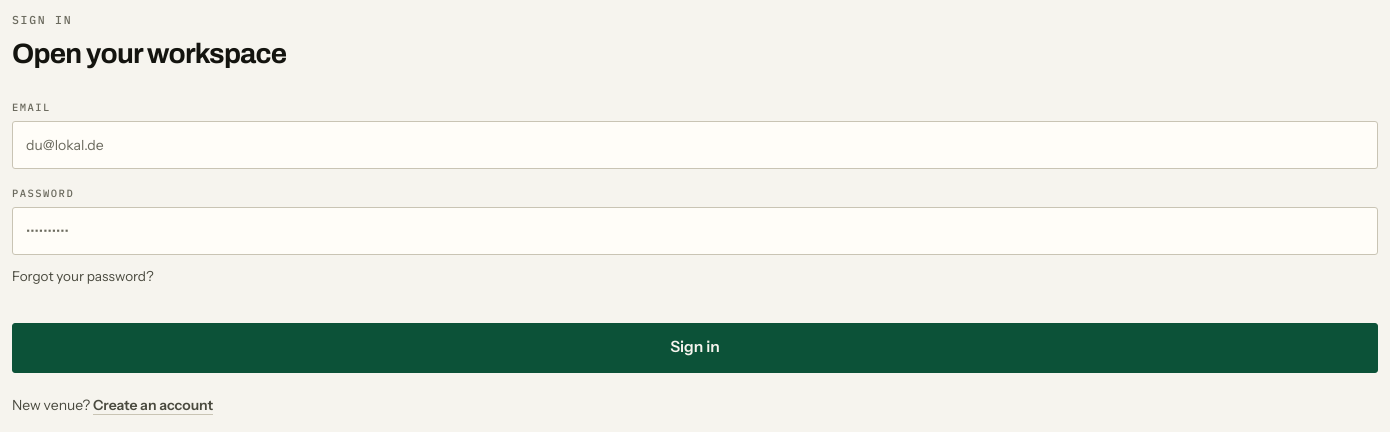
it: LoginForm › counts down from the server's own Retry-After when throttled
Step 1. Type "someone@example.com" into the field labelled "Email" → (695, 145), box [12,121,1378,169]
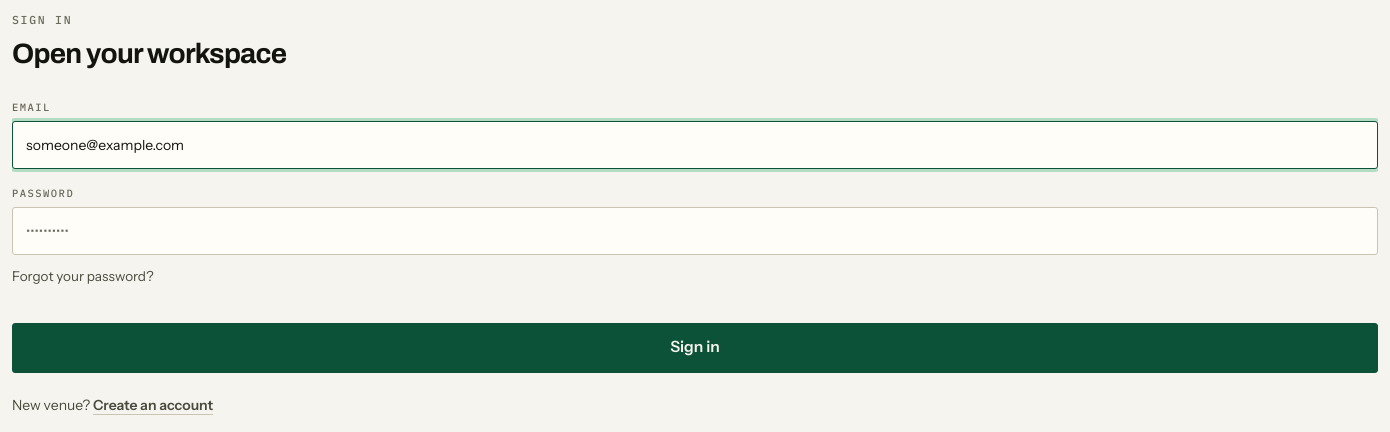
Step 2. Type "badpassword" into the password field labelled "Password" → (695, 231), box [12,207,1378,255]
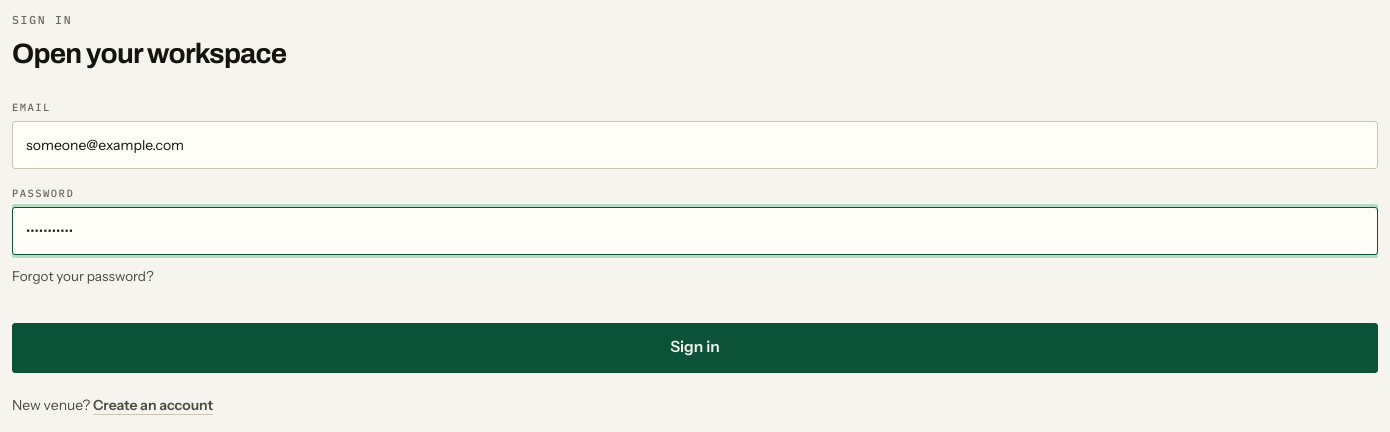
Step 3. Click the button "Sign in" → (695, 348), box [12,323,1378,373]
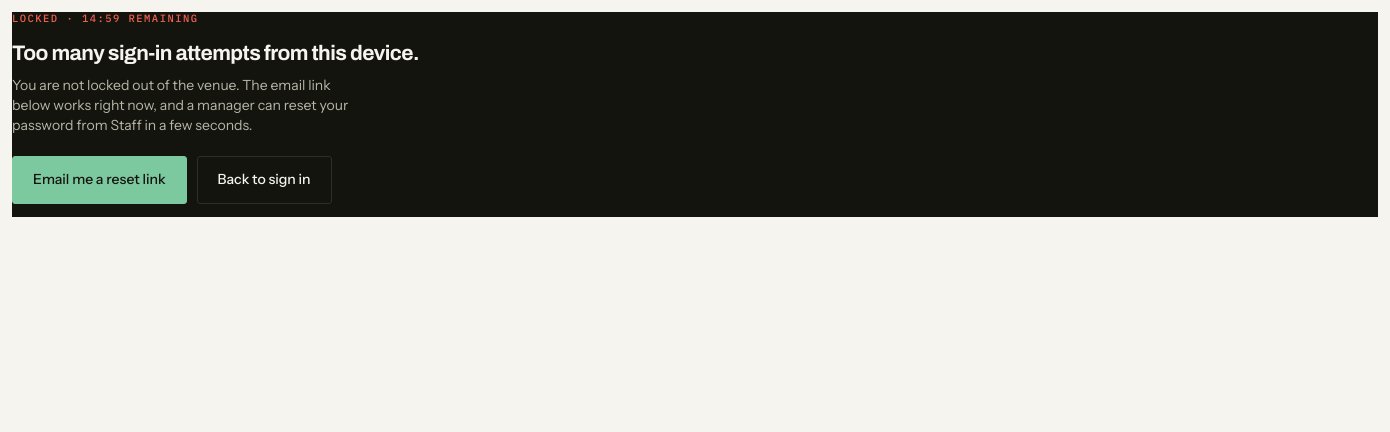
expect the text "Locked · 14:59 remaining" is shown: met, box [12,11,198,25]
expect the link "Email me a reset link" is shown: met, box [12,156,187,204]
